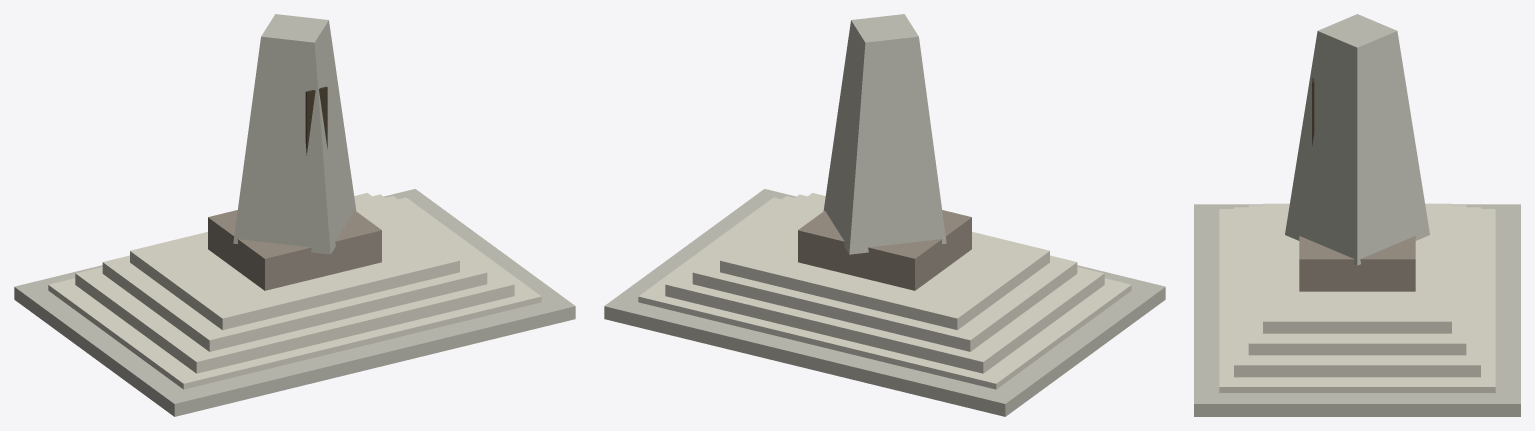
Rendered from pingxing_detail.glb.
3 views of the same model, side by side, from view 1: azimuth 30°, elevation 25°; view 2: azimuth 150°, elevation 25°; view 3: azimuth 270°, elevation 25° (orthographic).
Parts seen in each view (by area): view 1: tapered memorial shaft, stone plinth, memorial steps.003, memorial steps.001, memorial steps.002, memorial steps, obelisk base, central inscription panel; view 2: tapered memorial shaft, stone plinth, memorial steps.003, memorial steps.001, memorial steps.002, memorial steps, obelisk base; view 3: tapered memorial shaft, stone plinth, memorial steps.003, memorial steps.001, memorial steps, memorial steps.002, obelisk base.
Part boxes in pixels (left/top/right/bottom): tapered memorial shaft: left=233, top=14, right=356, bottom=254; stone plinth: left=14, top=189, right=575, bottom=416; memorial steps.003: left=130, top=193, right=459, bottom=330; memorial steps.001: left=75, top=196, right=514, bottom=373; memorial steps.002: left=102, top=194, right=487, bottom=351; memorial steps: left=48, top=197, right=541, bottom=389; obelisk base: left=208, top=210, right=381, bottom=290; central inscription panel: left=305, top=86, right=327, bottom=155; tapered memorial shaft: left=823, top=14, right=946, bottom=254; stone plinth: left=604, top=189, right=1165, bottom=416; memorial steps.003: left=720, top=193, right=1049, bottom=330; memorial steps.001: left=665, top=196, right=1104, bottom=373; memorial steps.002: left=692, top=194, right=1077, bottom=351; memorial steps: left=638, top=197, right=1131, bottom=389; obelisk base: left=798, top=210, right=971, bottom=290; tapered memorial shaft: left=1285, top=14, right=1429, bottom=265; stone plinth: left=1194, top=204, right=1520, bottom=416; memorial steps.003: left=1263, top=203, right=1451, bottom=333; memorial steps.001: left=1234, top=207, right=1480, bottom=377; memorial steps: left=1219, top=209, right=1495, bottom=392; memorial steps.002: left=1248, top=205, right=1466, bottom=355; obelisk base: left=1299, top=236, right=1415, bottom=291.
Bounding box in the file's own units: 6.5 × 4.35 × 4.5.
